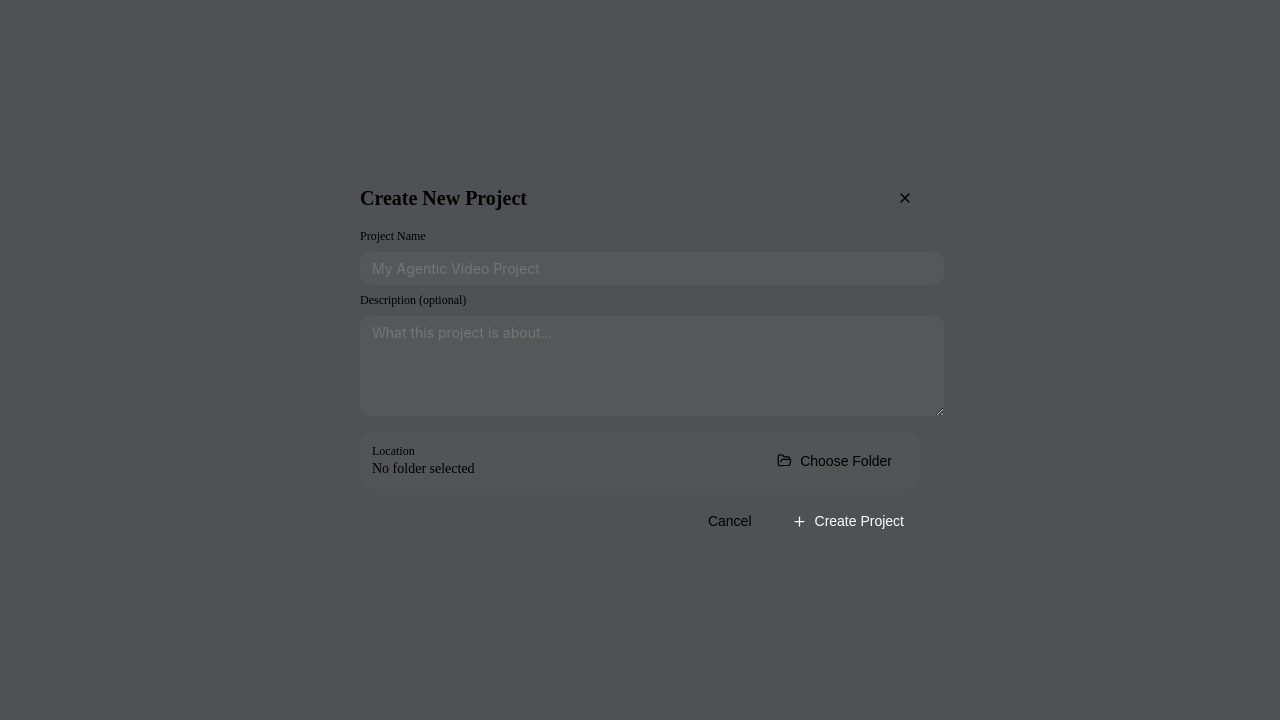
Scenario: NewProjectDialog › resets the created project state when opening the new folder fails
The image size is (1280, 720).
In the field named "Project name": [652, 268] box [360, 252, 944, 285], type "demo"
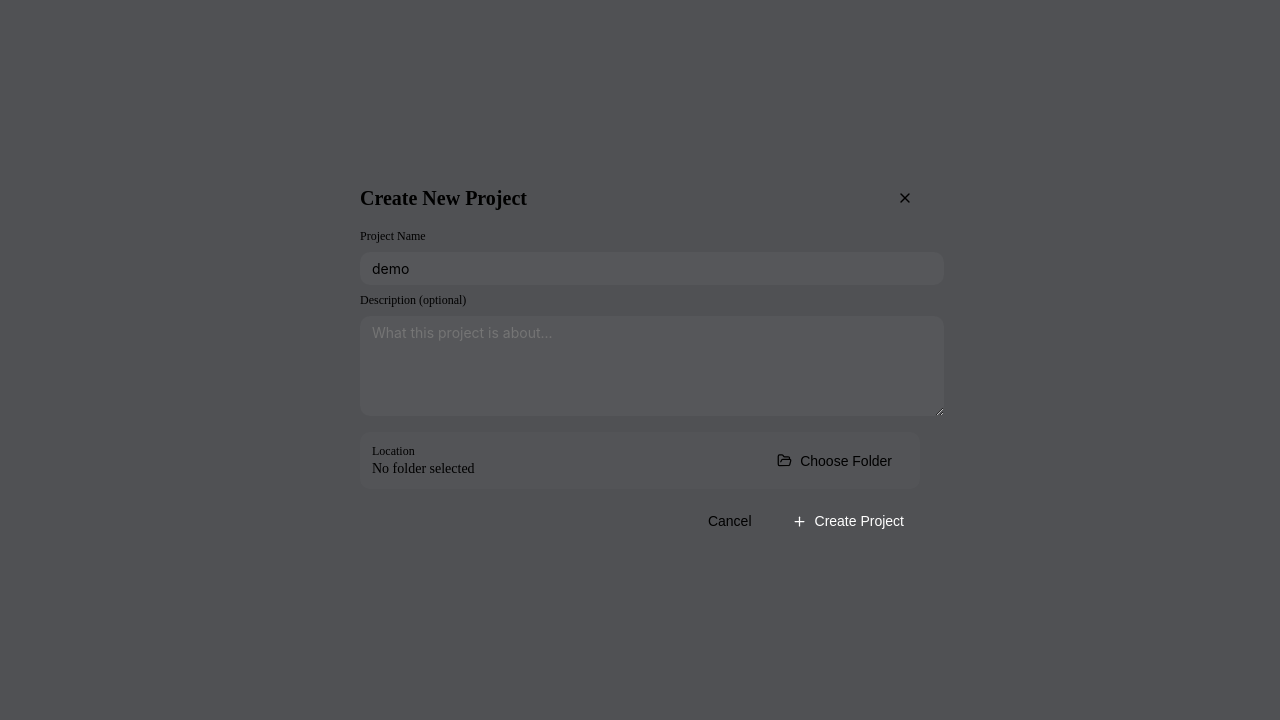
Click the button "Choose Folder": [835, 460] box [761, 444, 908, 476]
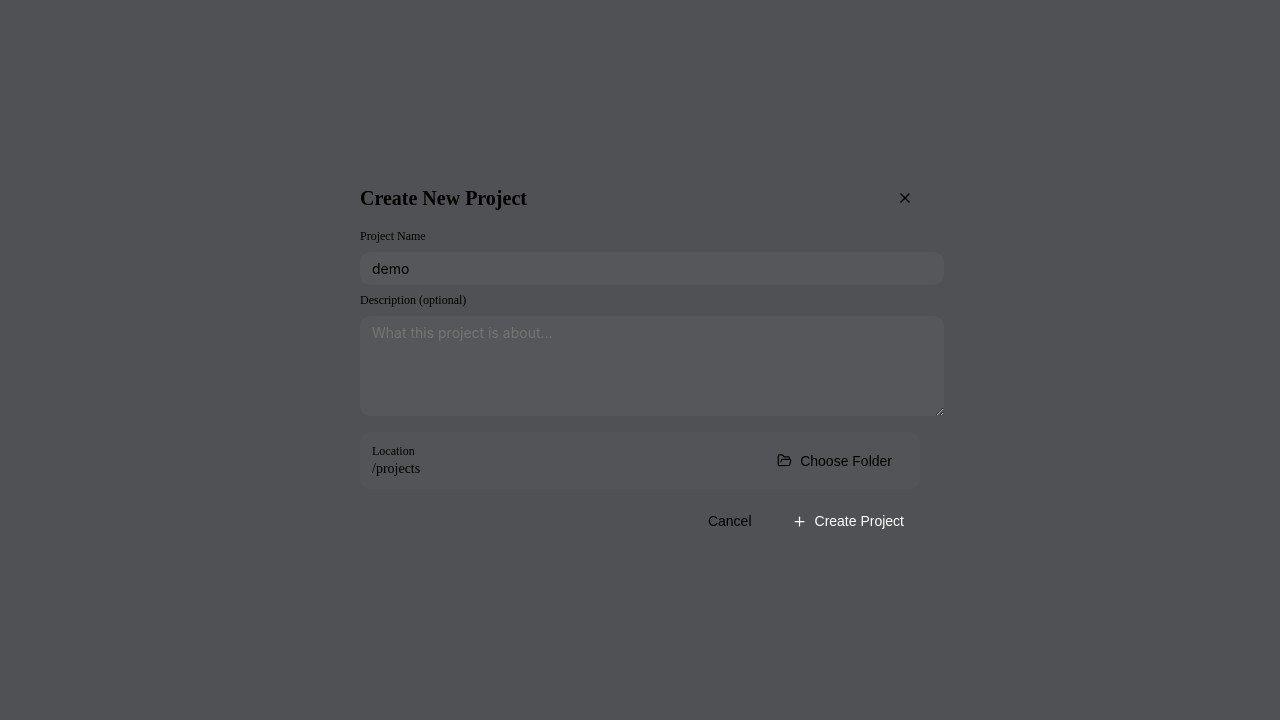
Expected: the text "/projects" is shown, [372, 461, 420, 477]
Click the button "Create Project": [848, 521] box [776, 505, 920, 537]
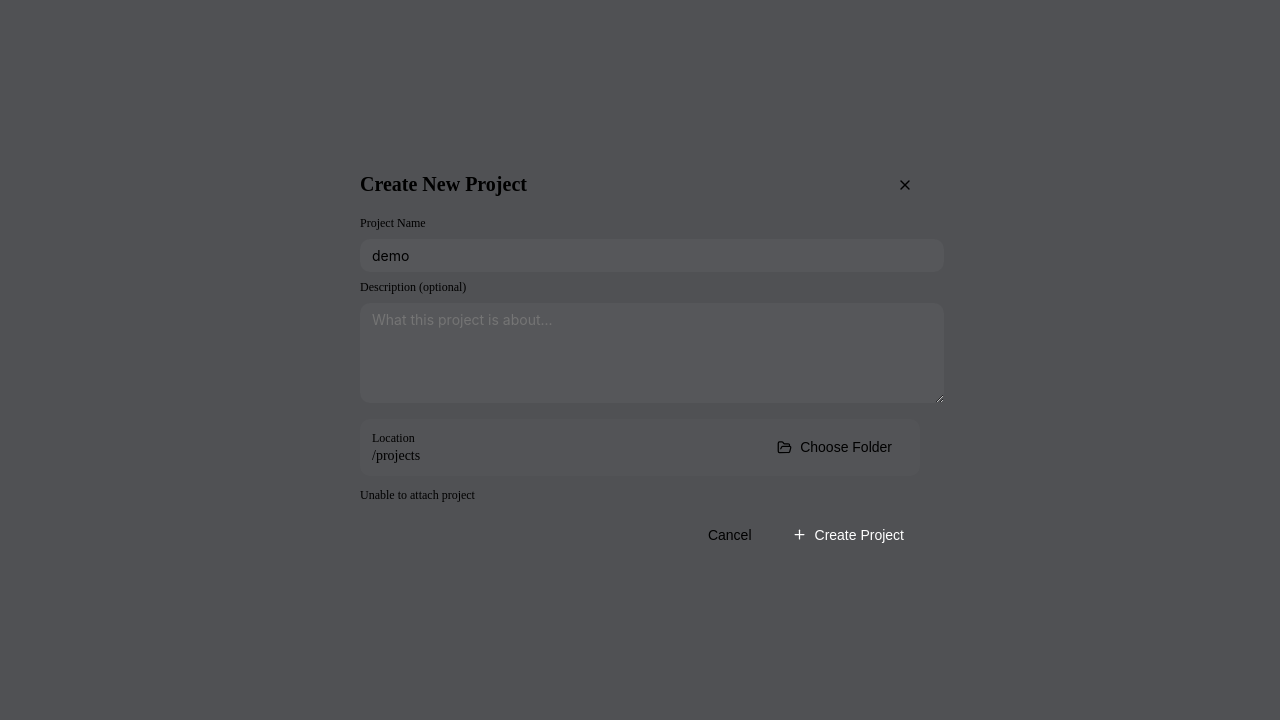
Expected: the text "Unable to attach project" is shown, [360, 488, 475, 502]
